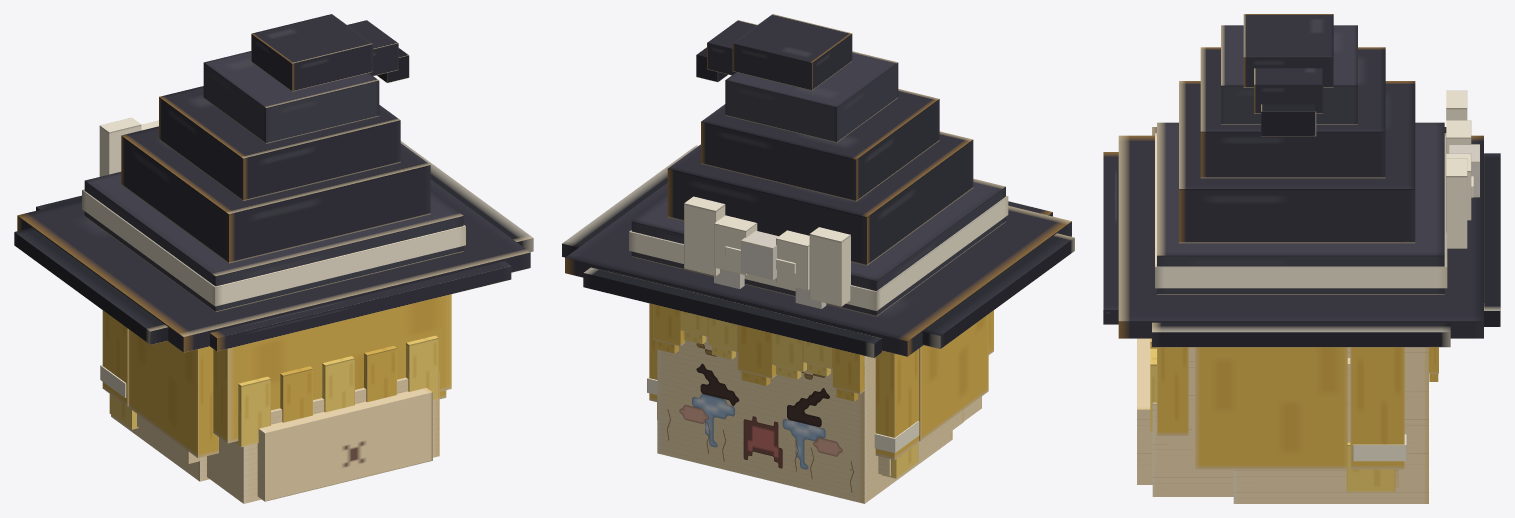
Rendered from desiccation_marisa_2.obj.
The picture shows the model from 3 angles, left to right: view 1: azimuth 30°, elevation 25°; view 2: azimuth 150°, elevation 25°; view 3: azimuth 270°, elevation 25°; orthographic projection. The views are drawn at different scales.
Parts seen in each view (by area): view 1: desiccation_marisa_2; view 2: desiccation_marisa_2; view 3: desiccation_marisa_2.
Boxes of the visible parts, left/top/right/bottom form: desiccation_marisa_2: left=14, top=14, right=533, bottom=503; desiccation_marisa_2: left=562, top=14, right=1074, bottom=503; desiccation_marisa_2: left=1103, top=14, right=1500, bottom=503.
Size of the model in its own units: 19 by 18.52 by 15.52.
Materials: 1 (1 with a texture image).
